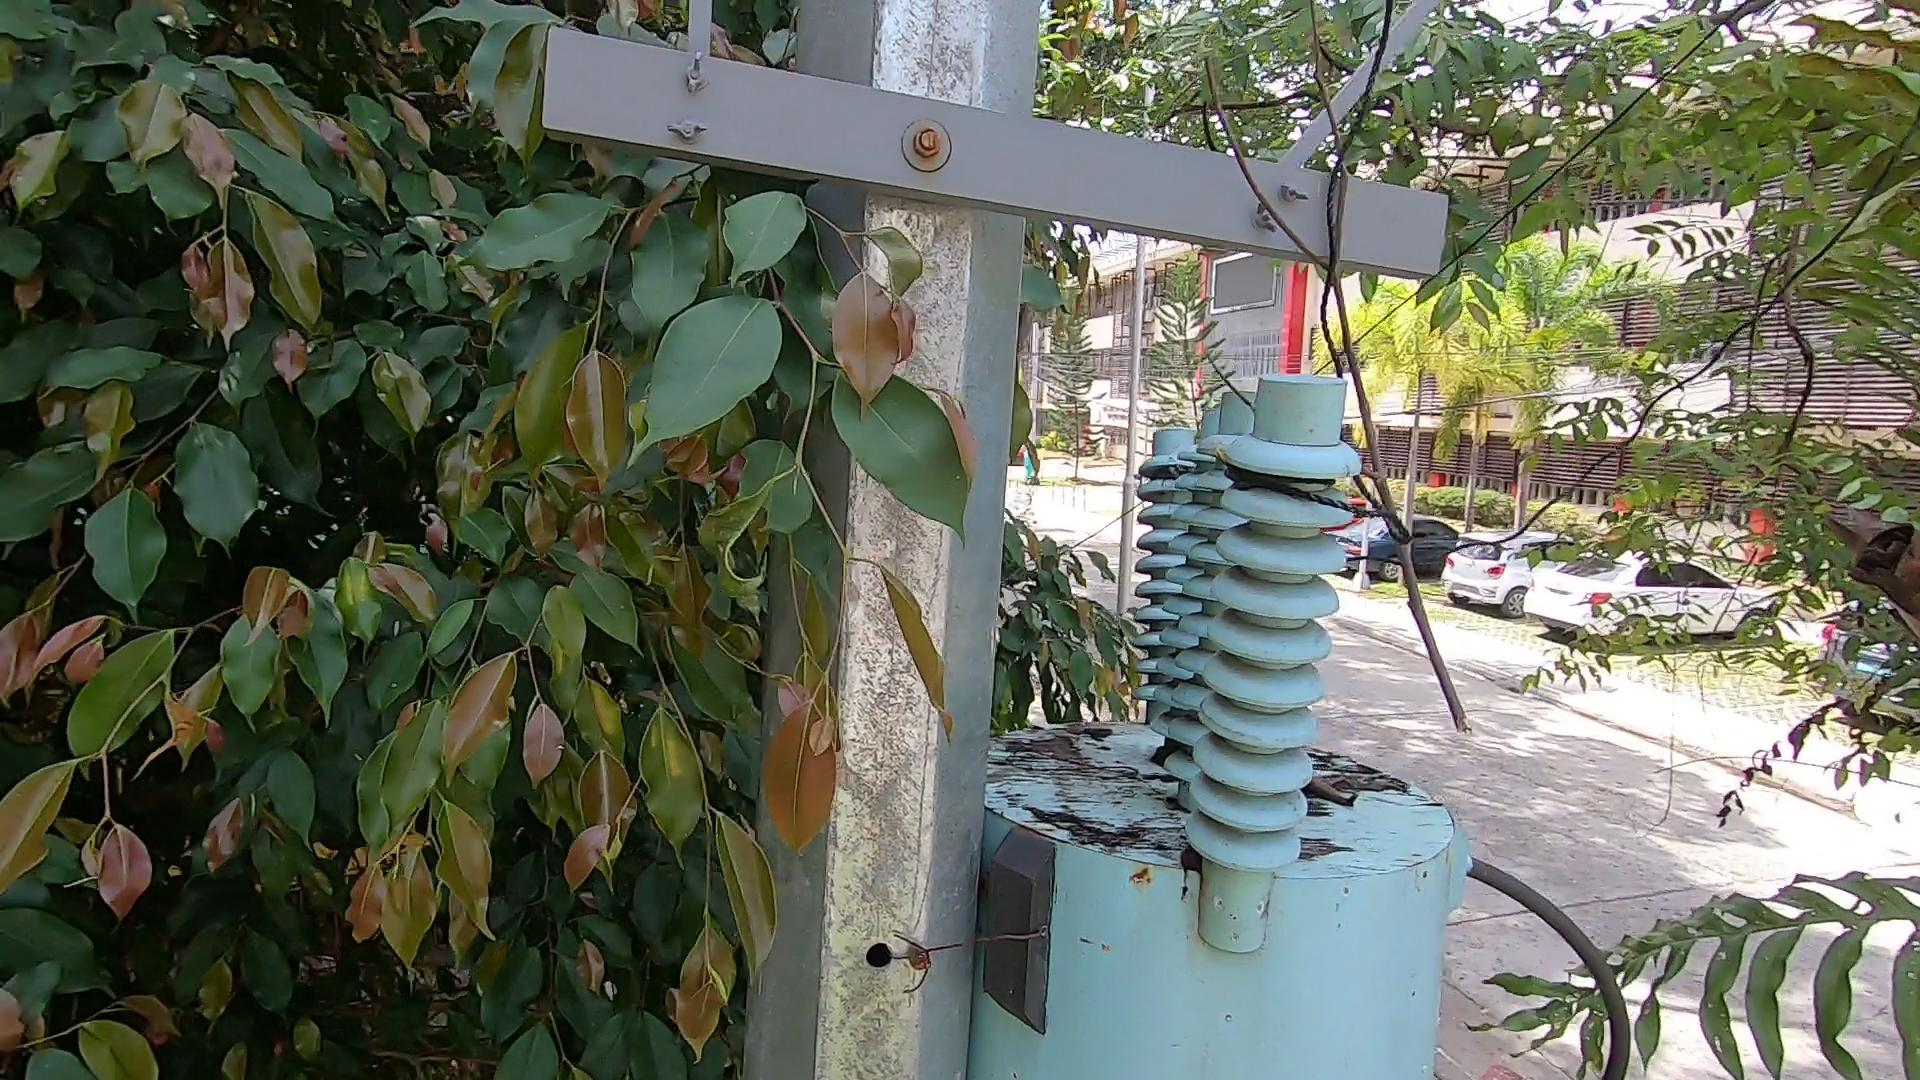leaf: (1305, 781, 1365, 823)
tree branch: (1160, 11, 1487, 731)
